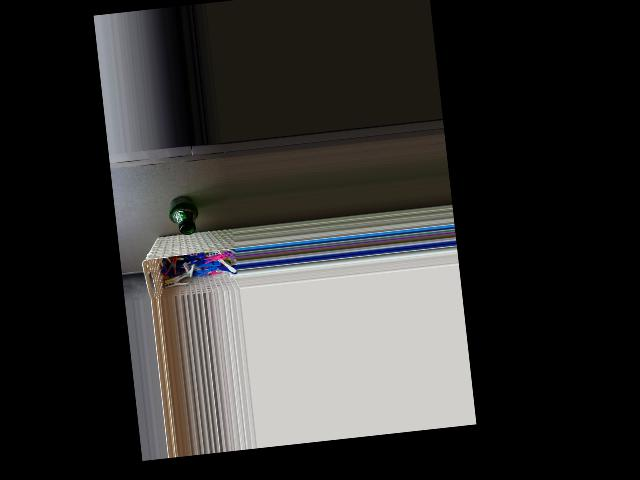beer: (166, 194, 200, 236)
